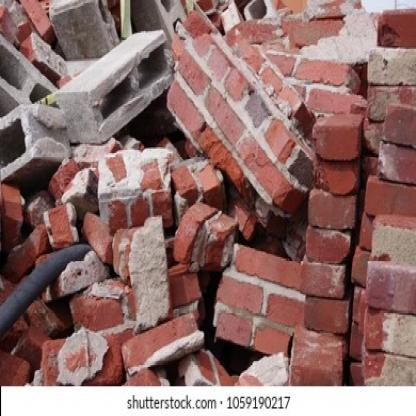brick: (133, 0, 377, 388), (51, 30, 288, 386), (0, 214, 173, 388), (348, 9, 415, 386), (0, 1, 122, 189), (1, 187, 79, 311)
